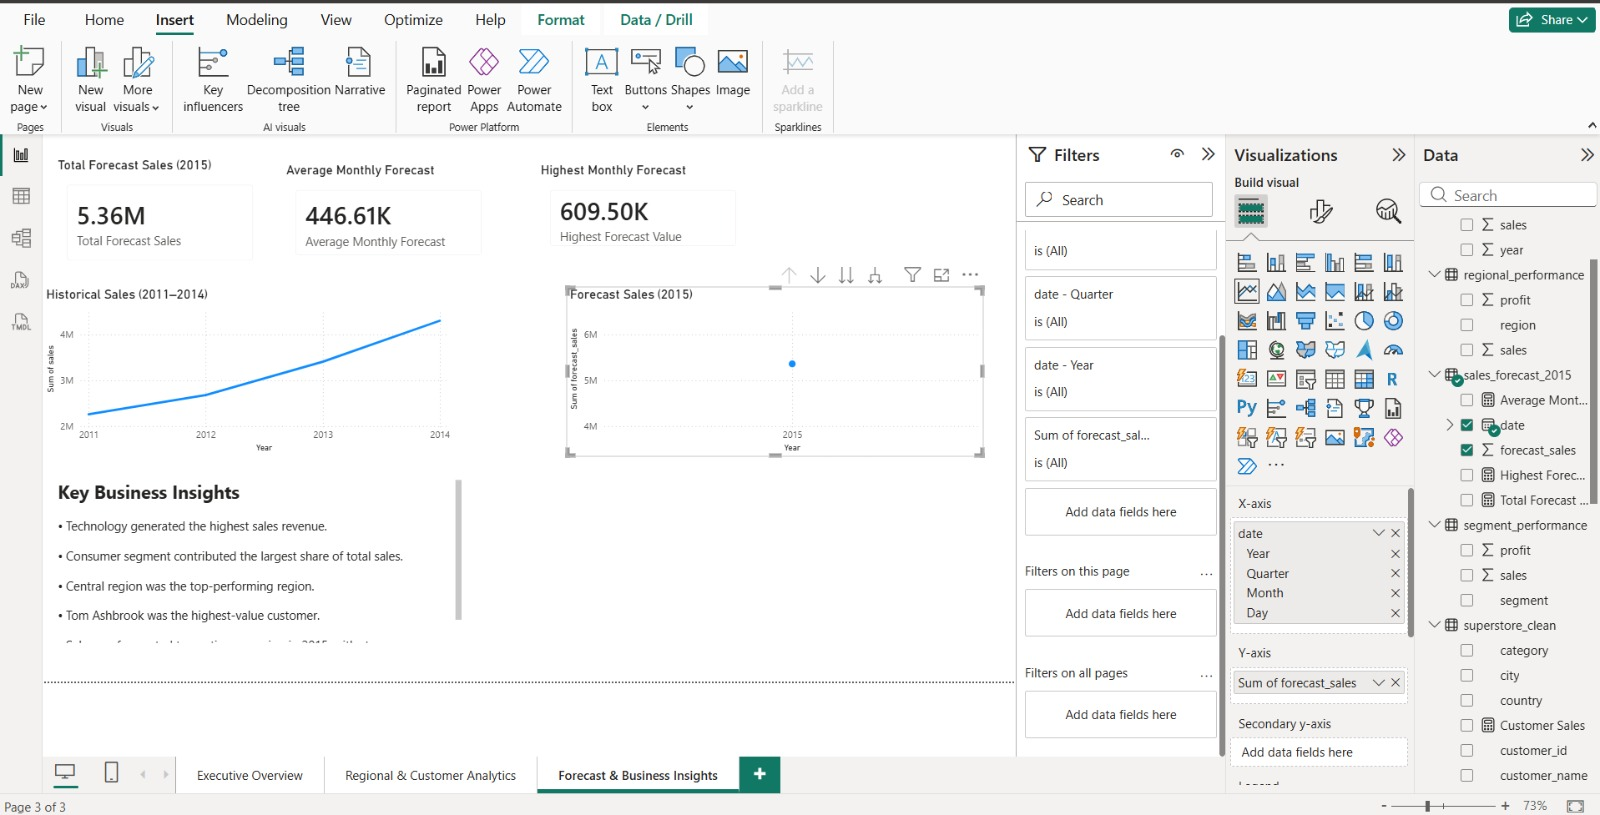

Layout of this report page (visuals, bound fields, positions):
{"tool":"powerbi","page":{"name":"Forecast & Business Insights","canvas":[1280,720],"ordinal":2},"visuals":[{"type":"cardVisual","title":"Total Forecast Sales (2015)","fields":{"Data":["sales_forecast_2015.Total Forecast Sales"]},"box":[15.1,30.2,279.9,153.7],"z":0},{"type":"cardVisual","title":"Average Monthly Forecast","fields":{"Data":["sales_forecast_2015.Average Monthly Forecast"]},"box":[315.6,37,279.9,140],"z":1000},{"type":"cardVisual","title":"Highest Monthly Forecast","fields":{"Data":["sales_forecast_2015.Highest Forecast Value"]},"box":[650.4,37,279.9,127.6],"z":2000},{"type":"lineChart","title":"Historical Sales (2011–2014)","fields":{"Category":["monthly_sales.order_date.Variation.Date Hierarchy.Year","monthly_sales.order_date.Variation.Date Hierarchy.Quarter","monthly_sales.order_date.Variation.Date Hierarchy.Month","monthly_sales.order_date.Variation.Date Hierarchy.Day"],"Y":["Sum(monthly_sales.sales)"]},"box":[0,200.3,540.7,223.7],"z":3000},{"type":"lineChart","title":"Forecast Sales (2015)","fields":{"Category":["sales_forecast_2015.date.Variation.Date Hierarchy.Year","sales_forecast_2015.date.Variation.Date Hierarchy.Quarter","sales_forecast_2015.date.Variation.Date Hierarchy.Month","sales_forecast_2015.date.Variation.Date Hierarchy.Day"],"Y":["Sum(sales_forecast_2015.forecast_sales)"]},"box":[688.9,200.3,548.9,223.7],"z":4000},{"type":"textbox","box":[15,450,541,224],"z":5000}]}

Visuals, with their boxes on the page's 1280x720 design canvas (x1, y1, x2, y2). These are canvas units, not pixel positions in the 1600x815 screenshot, which may show the page scaled, cropped or inside an application window:
"Total Forecast Sales (2015)" cardVisual: {"left": 15, "top": 30, "right": 295, "bottom": 184}
"Average Monthly Forecast" cardVisual: {"left": 316, "top": 37, "right": 596, "bottom": 177}
"Highest Monthly Forecast" cardVisual: {"left": 650, "top": 37, "right": 930, "bottom": 165}
"Historical Sales (2011–2014)" lineChart: {"left": 0, "top": 200, "right": 541, "bottom": 424}
"Forecast Sales (2015)" lineChart: {"left": 689, "top": 200, "right": 1238, "bottom": 424}
textbox: {"left": 15, "top": 450, "right": 556, "bottom": 674}
